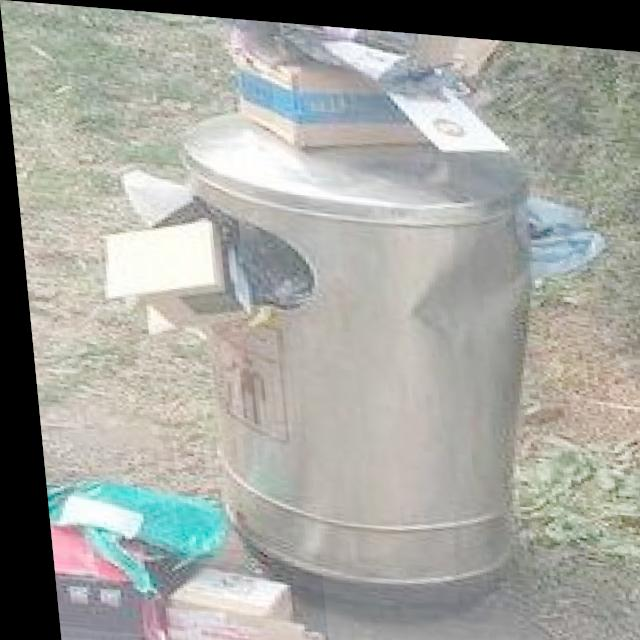garbage: (36, 475, 317, 640)
overflow: (70, 4, 620, 617)
